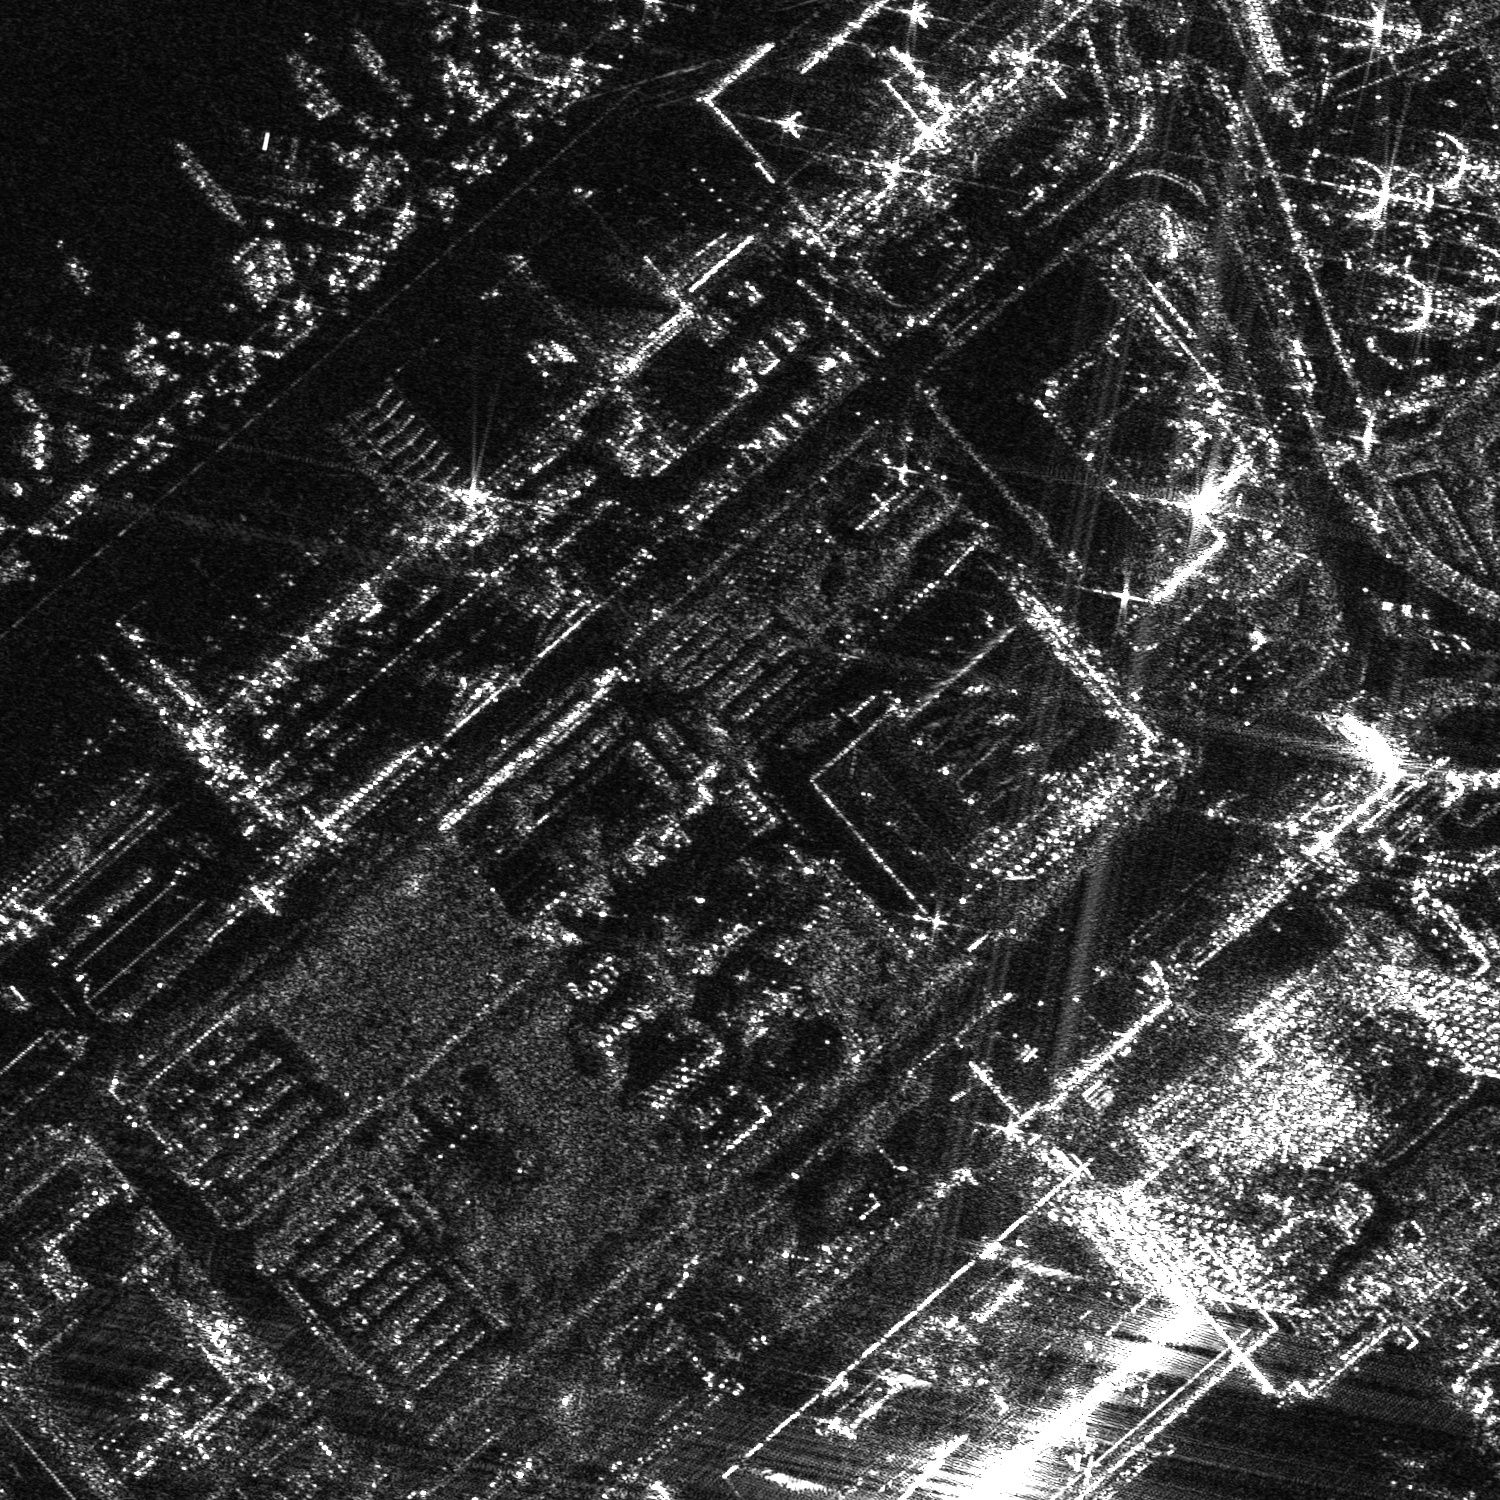Boeing737: (1385, 1445, 1456, 1499)
other: (238, 128, 319, 212), (29, 328, 110, 401)
